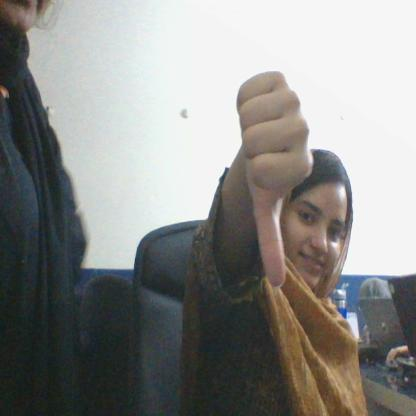thumbs-down: (230, 61, 315, 294)
